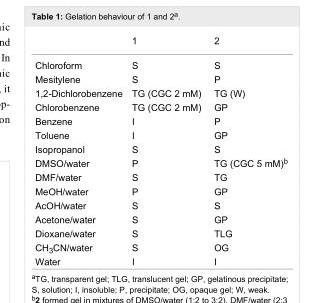table: (34, 34, 286, 266)
table column: (34, 34, 126, 266), (126, 34, 206, 266), (206, 34, 286, 266)
table column header: (34, 34, 286, 52)
table row: (34, 52, 286, 71), (34, 34, 286, 52), (34, 154, 286, 169), (34, 239, 286, 254), (34, 71, 286, 85), (34, 85, 286, 99), (34, 99, 286, 113), (34, 113, 286, 127), (34, 127, 286, 141), (34, 169, 286, 183), (34, 183, 286, 197), (34, 197, 286, 211), (34, 211, 286, 225), (34, 225, 286, 239), (34, 141, 286, 154), (34, 254, 286, 266)
